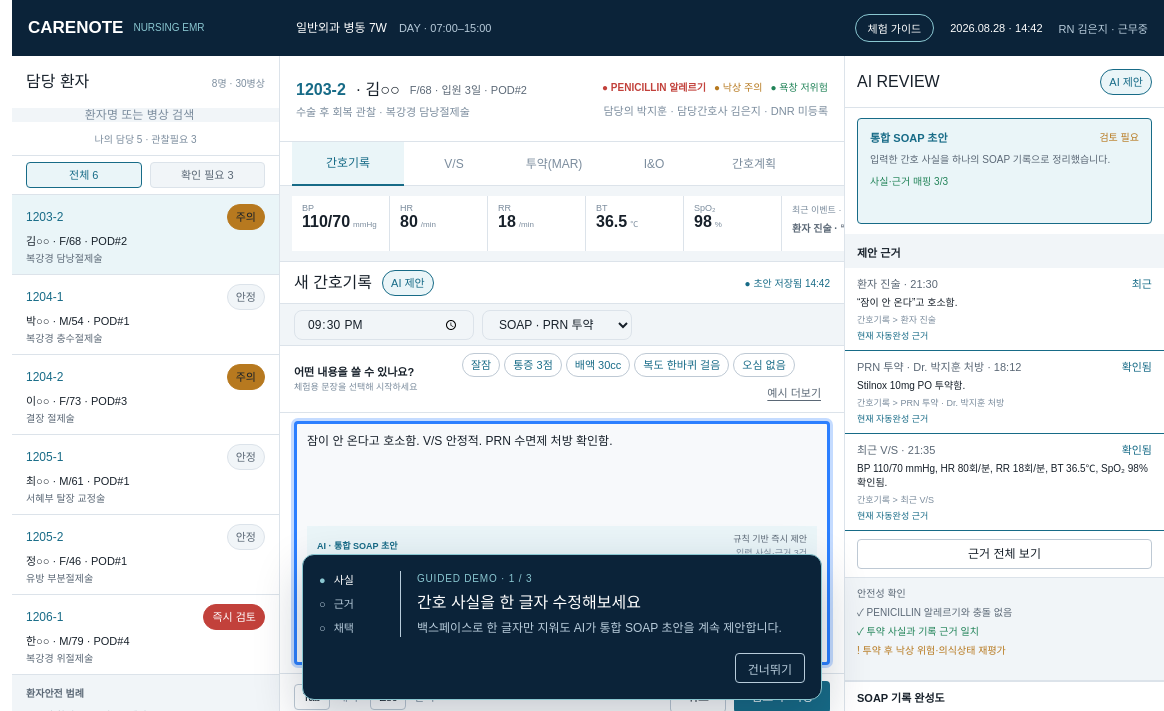
ChartingWorkspace › filters the patient rail to watch and danger patients and restores all patients
What coordinates should you click on to do the following:
click the button "확인 필요 3"
I would click on:
 (207, 175)
Its box is x1=150 y1=162 x2=265 y2=188.
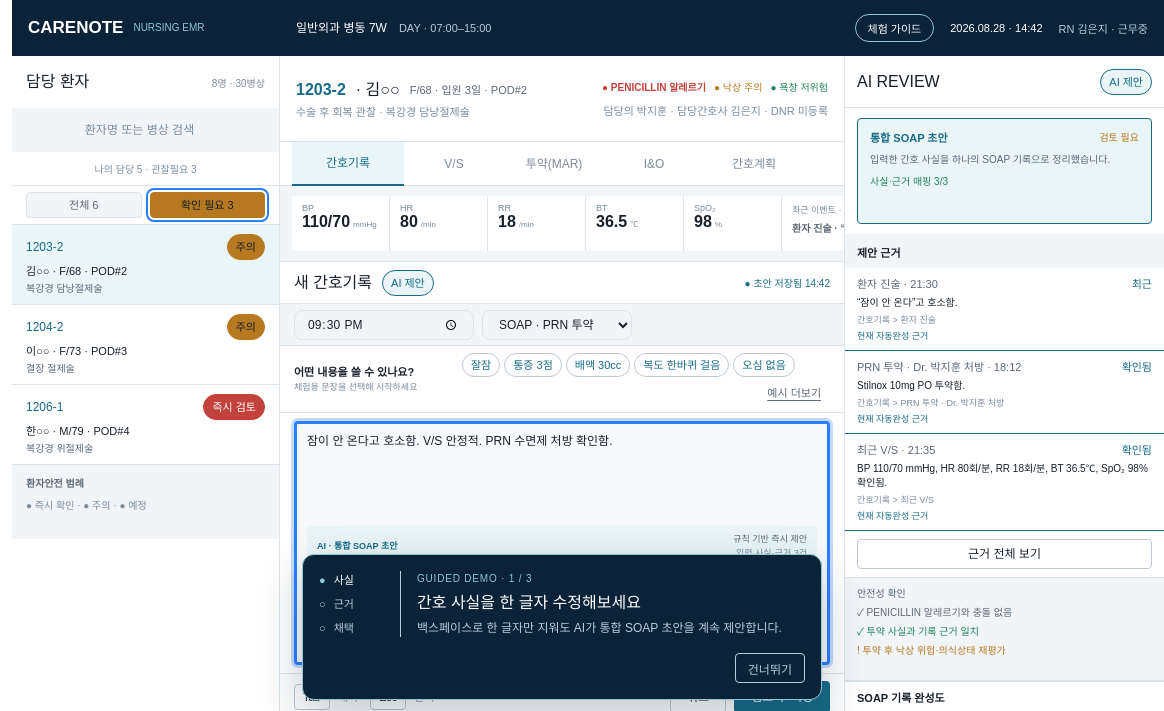
Expected: the button "1203-2 주의 김○○ · F/68 · POD#2 복강경 담낭절제술" is shown, x1=12 y1=225 x2=279 y2=305
Now the number of buttons "1203-2 주의 김○○ · F/68 · POD#2 복강경 담낭절제술" is 3, box x1=12 y1=225 x2=279 y2=305; x1=12 y1=305 x2=279 y2=385; x1=12 y1=385 x2=279 y2=465
Now the button "1204-1 안정 박○○ · M/54 · POD#1 복강경 충수절제술" is gone
What coordinates should you click on to do the following:
click the button "전체 6"
I would click on:
 (84, 205)
Its box is x1=26 y1=192 x2=142 y2=218.
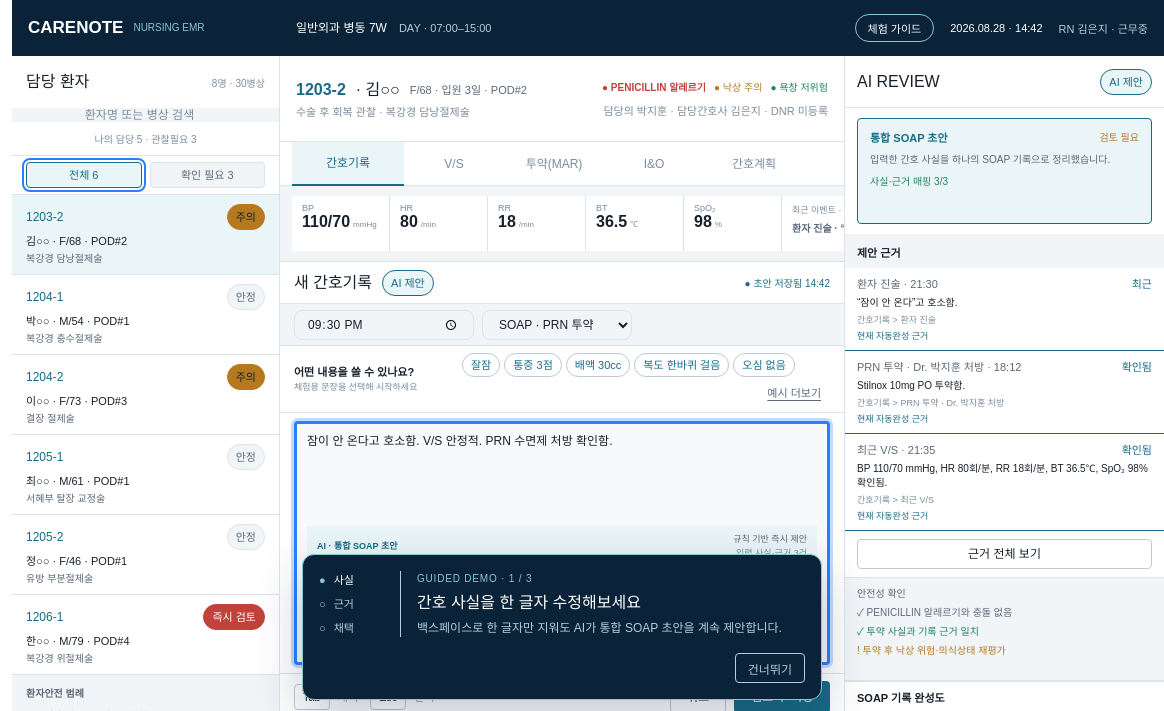
Now the number of buttons "1203-2 주의 김○○ · F/68 · POD#2 복강경 담낭절제술" is 6, box x1=12 y1=195 x2=279 y2=275; x1=12 y1=275 x2=279 y2=355; x1=12 y1=355 x2=279 y2=435; x1=12 y1=435 x2=279 y2=515; x1=12 y1=515 x2=279 y2=595; x1=12 y1=595 x2=279 y2=675
